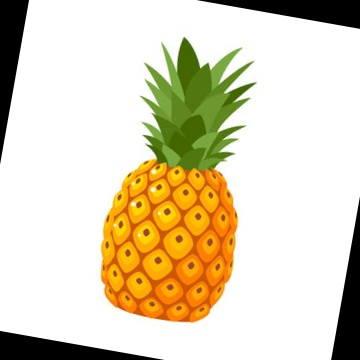Pineapple: (100, 34, 259, 322)
